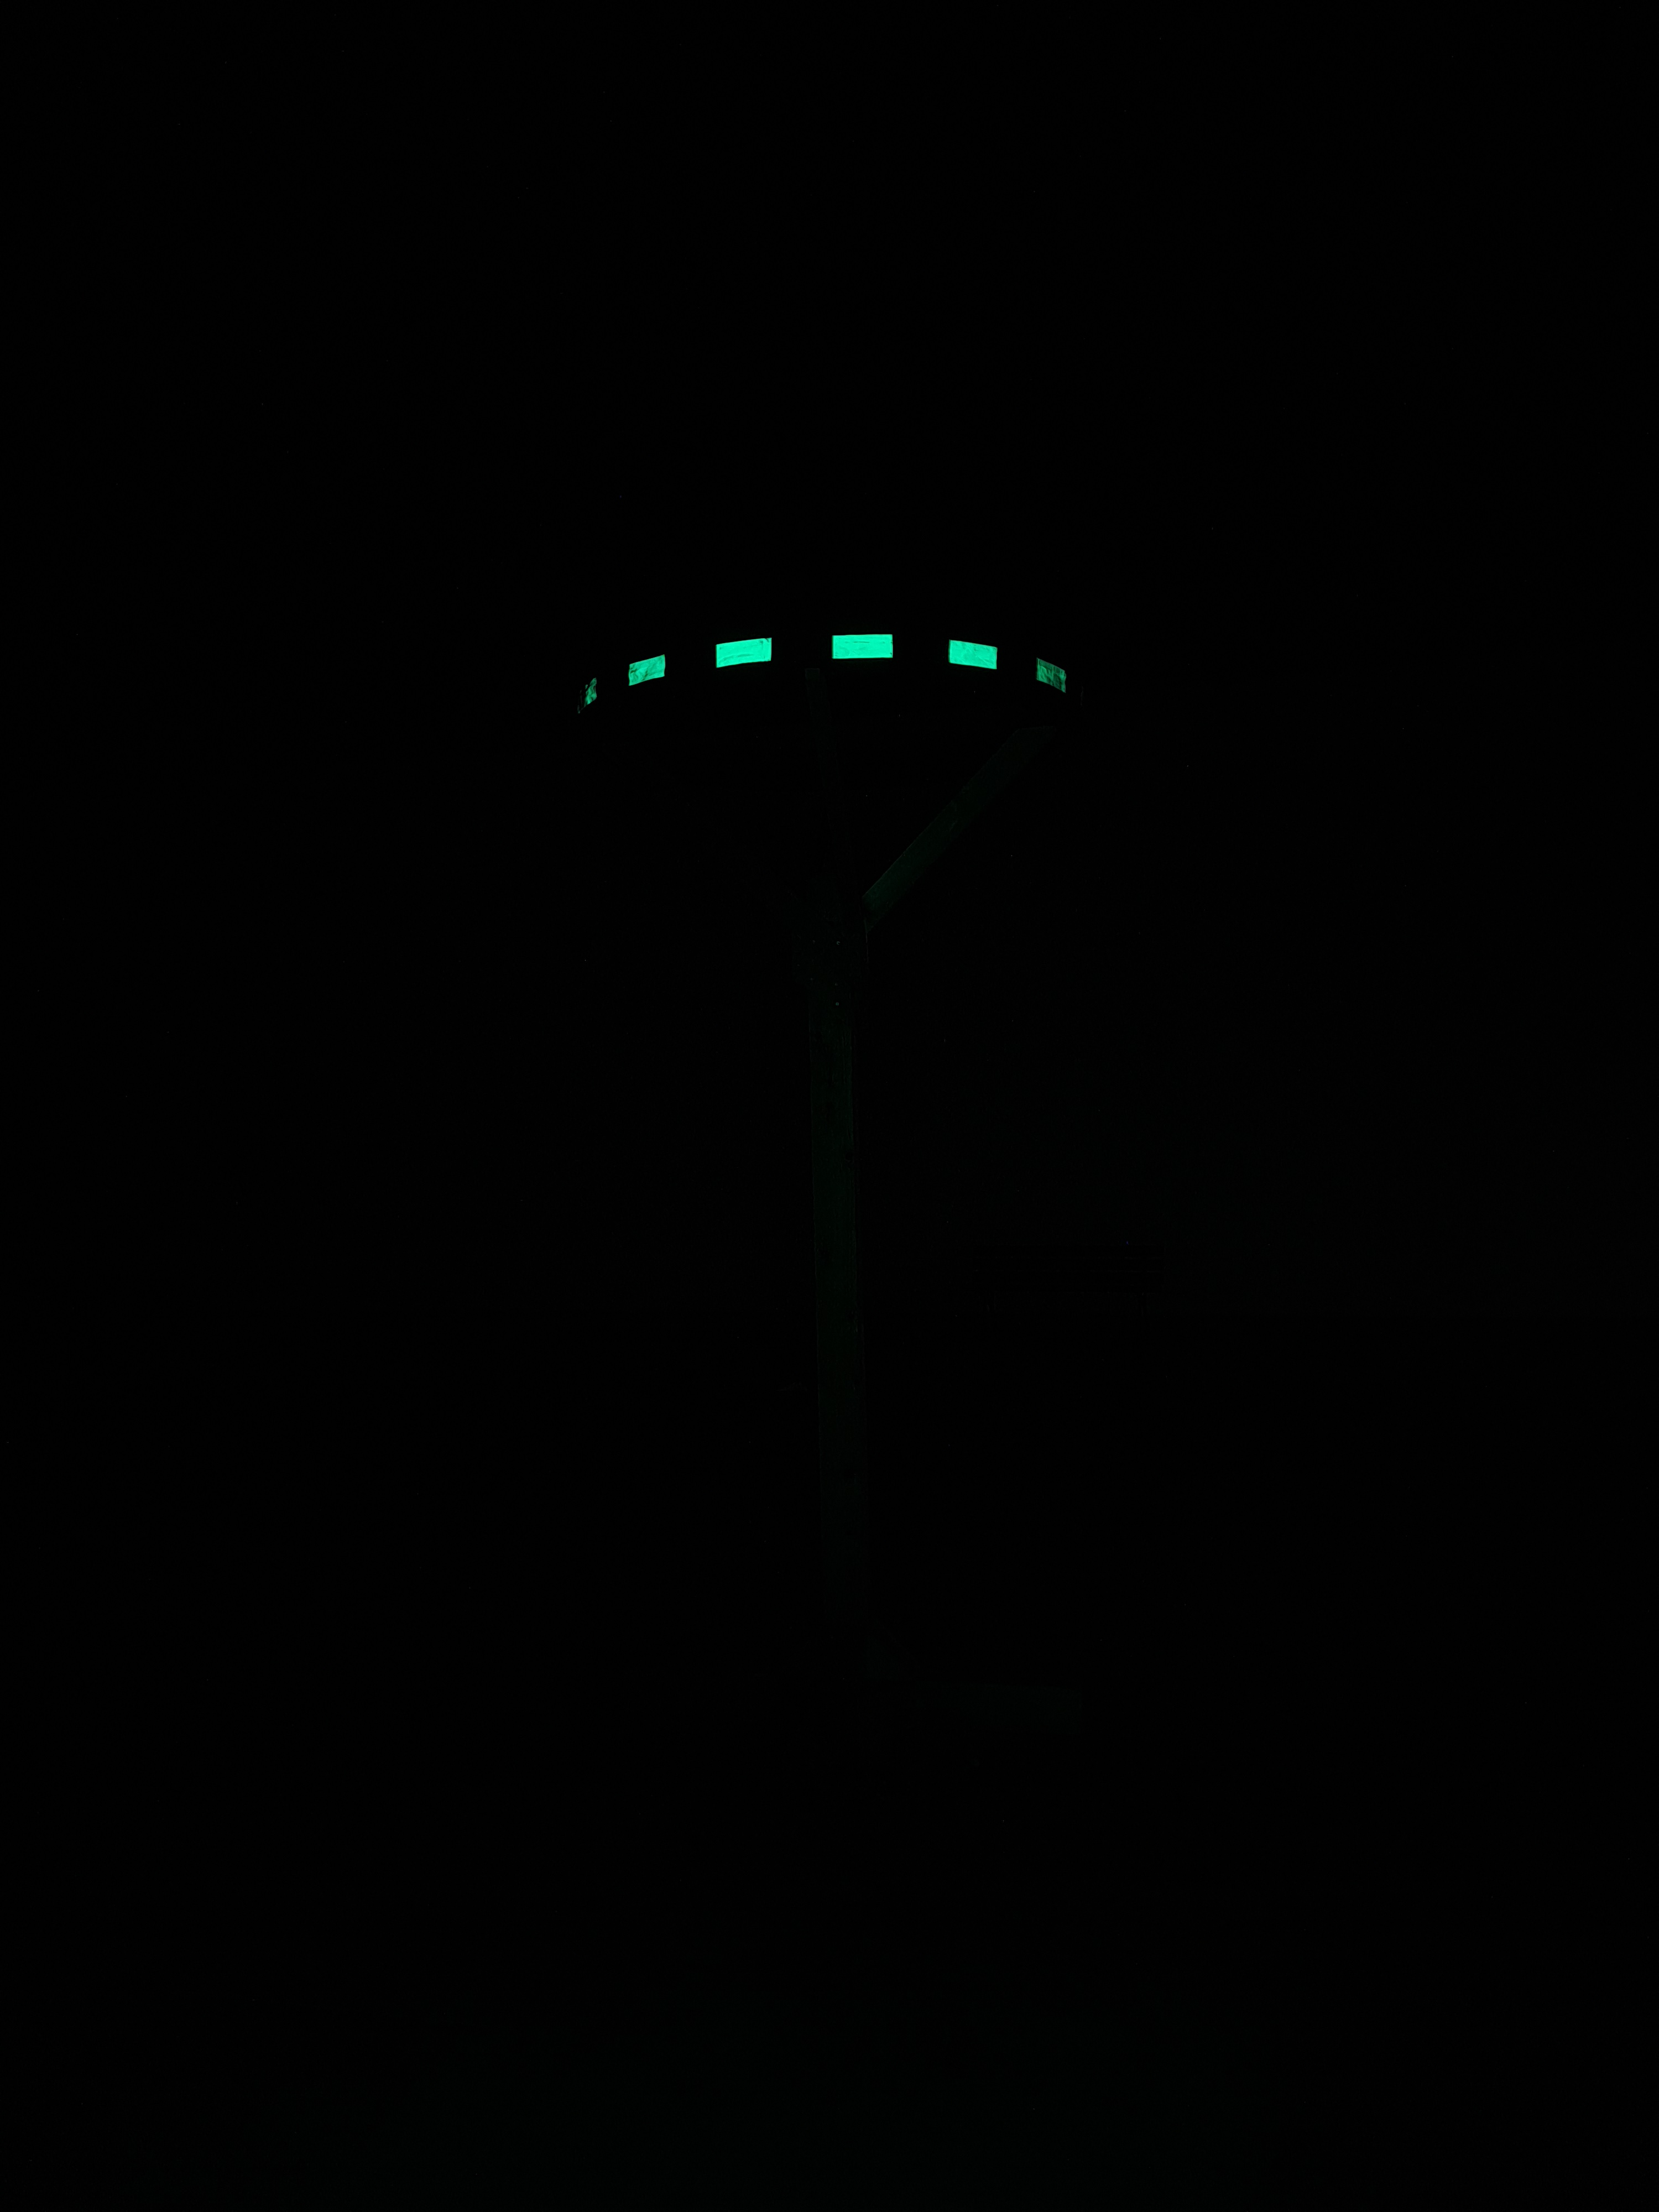hoop: (573, 627, 1070, 709)
